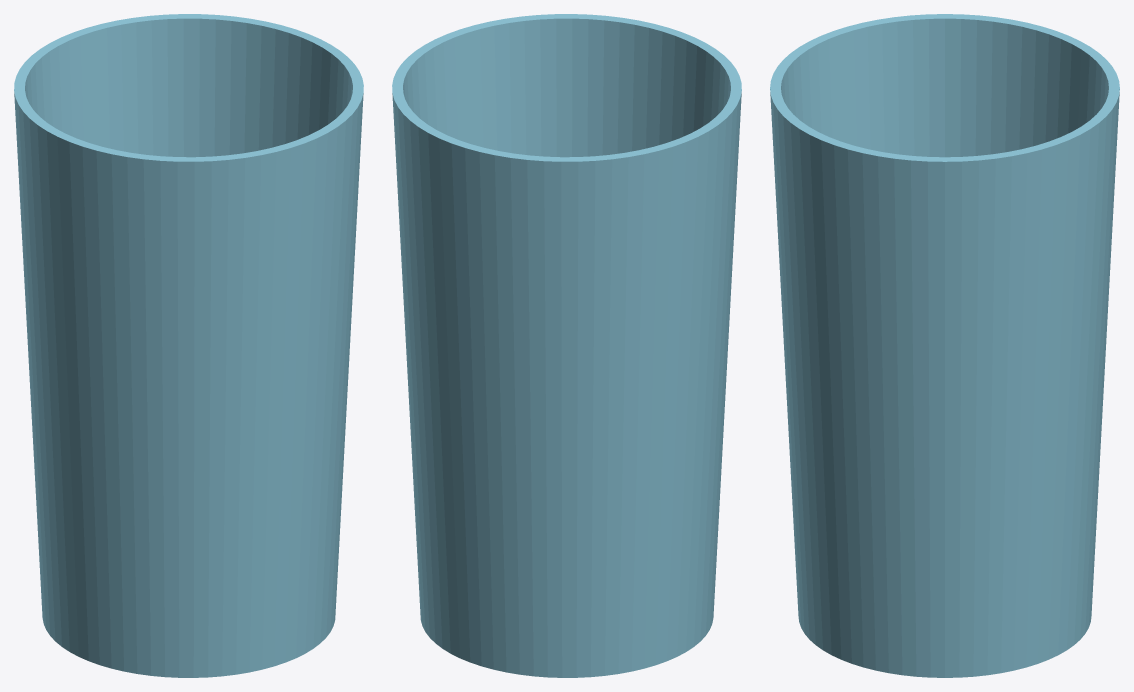
File: Glass1.fbx
3 views of the same model, side by side, from view 1: azimuth 30°, elevation 25°; view 2: azimuth 150°, elevation 25°; view 3: azimuth 270°, elevation 25° (orthographic).
Visible parts, largest first — view 1: Цилиндр; view 2: Цилиндр; view 3: Цилиндр.
Boxes of the visible parts, x1,y1,x2,y2 form: Цилиндр: [14, 14, 363, 677]; Цилиндр: [392, 14, 741, 677]; Цилиндр: [770, 14, 1119, 677].
Bounding box in the file's own units: 2 × 3.33 × 2.
